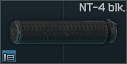KAC QDSS NT-4 5.56x45 sound suppressor Black: (0, 0, 127, 64)
